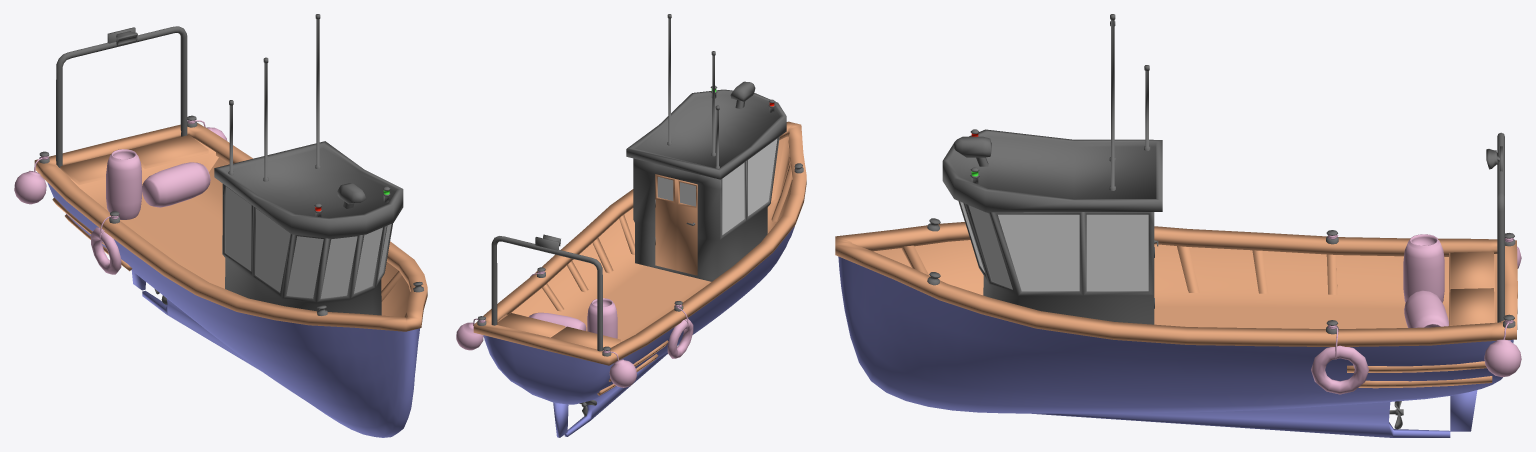
The model's file is gemiLow.fbx.
3 views of the same model, side by side, from view 1: azimuth 30°, elevation 25°; view 2: azimuth 150°, elevation 25°; view 3: azimuth 270°, elevation 25° (orthographic). The views are drawn at different scales.
Parts seen in each view (by area): view 1: Cube.022; view 2: Cube.022; view 3: Cube.022.
Boxes of the visible parts, left/top/right/bottom form: Cube.022: left=14, top=14, right=427, bottom=437; Cube.022: left=456, top=14, right=806, bottom=437; Cube.022: left=835, top=14, right=1521, bottom=437.
Bounding box in the file's own units: 185 × 323 × 460.
